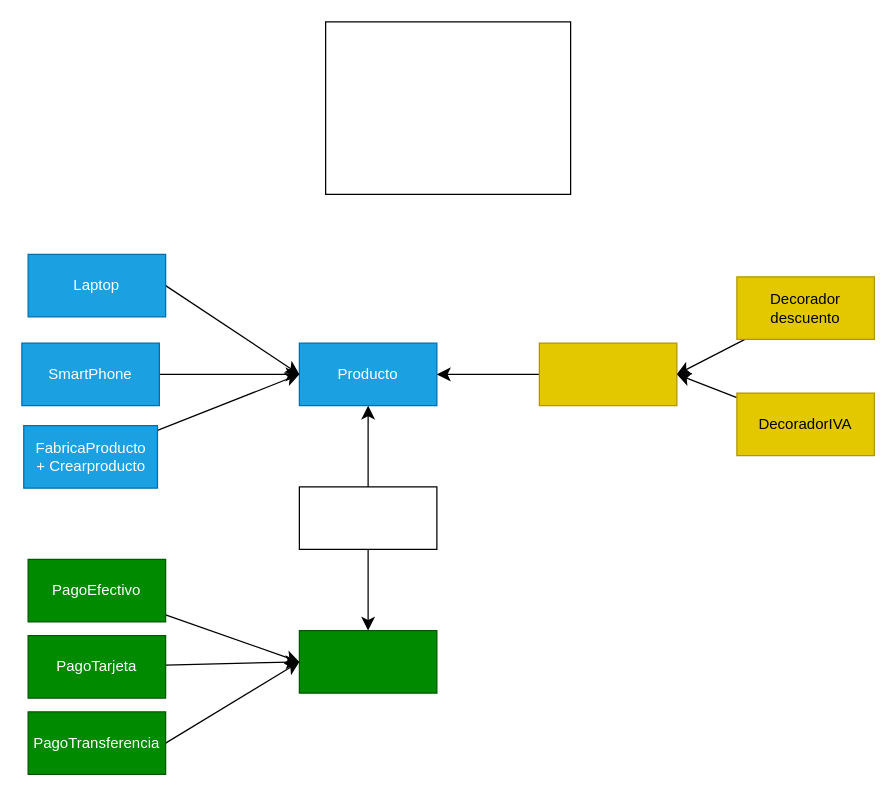
The diagram is 896 pixels wide and 796 high, and some of its shapes have lost their labels. The shapes that lost their labels are listed below. From the top down, each one's box as (x1, y1, x2, y2) in pixels, then its label:
(324, 21, 571, 194): Object:Type Azul = Factory Method verde = Strategy Amarillo = Decorator
(538, 342, 677, 406): DecoradorProducto
(298, 486, 437, 549): Venta +Procesarventa()
(298, 629, 437, 693): MetodoPago +Pagar()
